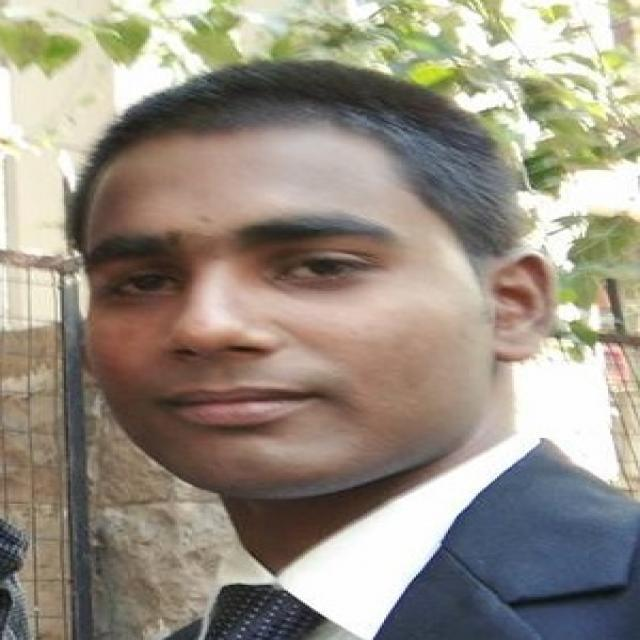Nonhelmet: (31, 45, 592, 499)
